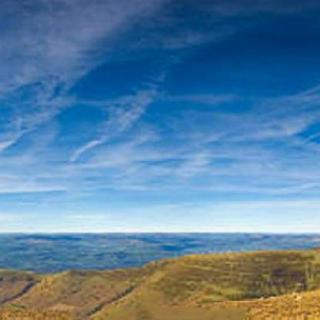Cirrus: (0, 0, 320, 207)
